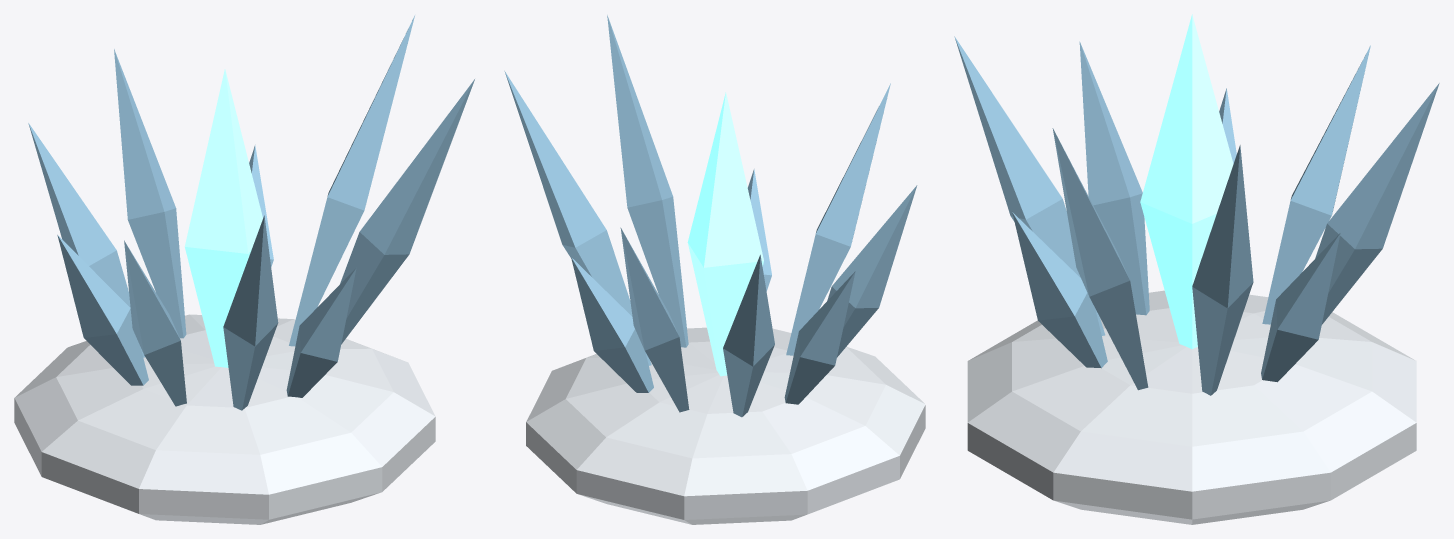
Rendered from IceCrystals.glb.
The picture shows the model from 3 angles, left to right: view 1: azimuth 30°, elevation 25°; view 2: azimuth 150°, elevation 25°; view 3: azimuth 270°, elevation 25°; orthographic projection. The views are drawn at different scales.
Visible parts, largest first — view 1: IceCrystals, IceCrystals_Glow; view 2: IceCrystals, IceCrystals_Glow; view 3: IceCrystals, IceCrystals_Glow.
Part boxes in pixels (box(x1,y1,x2,y2)): IceCrystals: box(14, 15, 474, 524); IceCrystals_Glow: box(184, 69, 262, 367); IceCrystals: box(504, 15, 925, 524); IceCrystals_Glow: box(687, 92, 763, 376); IceCrystals: box(954, 36, 1439, 524); IceCrystals_Glow: box(1140, 14, 1233, 349).
Size of the model in its own units: 2.94 by 2.9 by 2.81.
2 materials, 1 textured.
